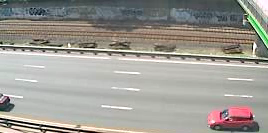car: (203, 105, 255, 131)
